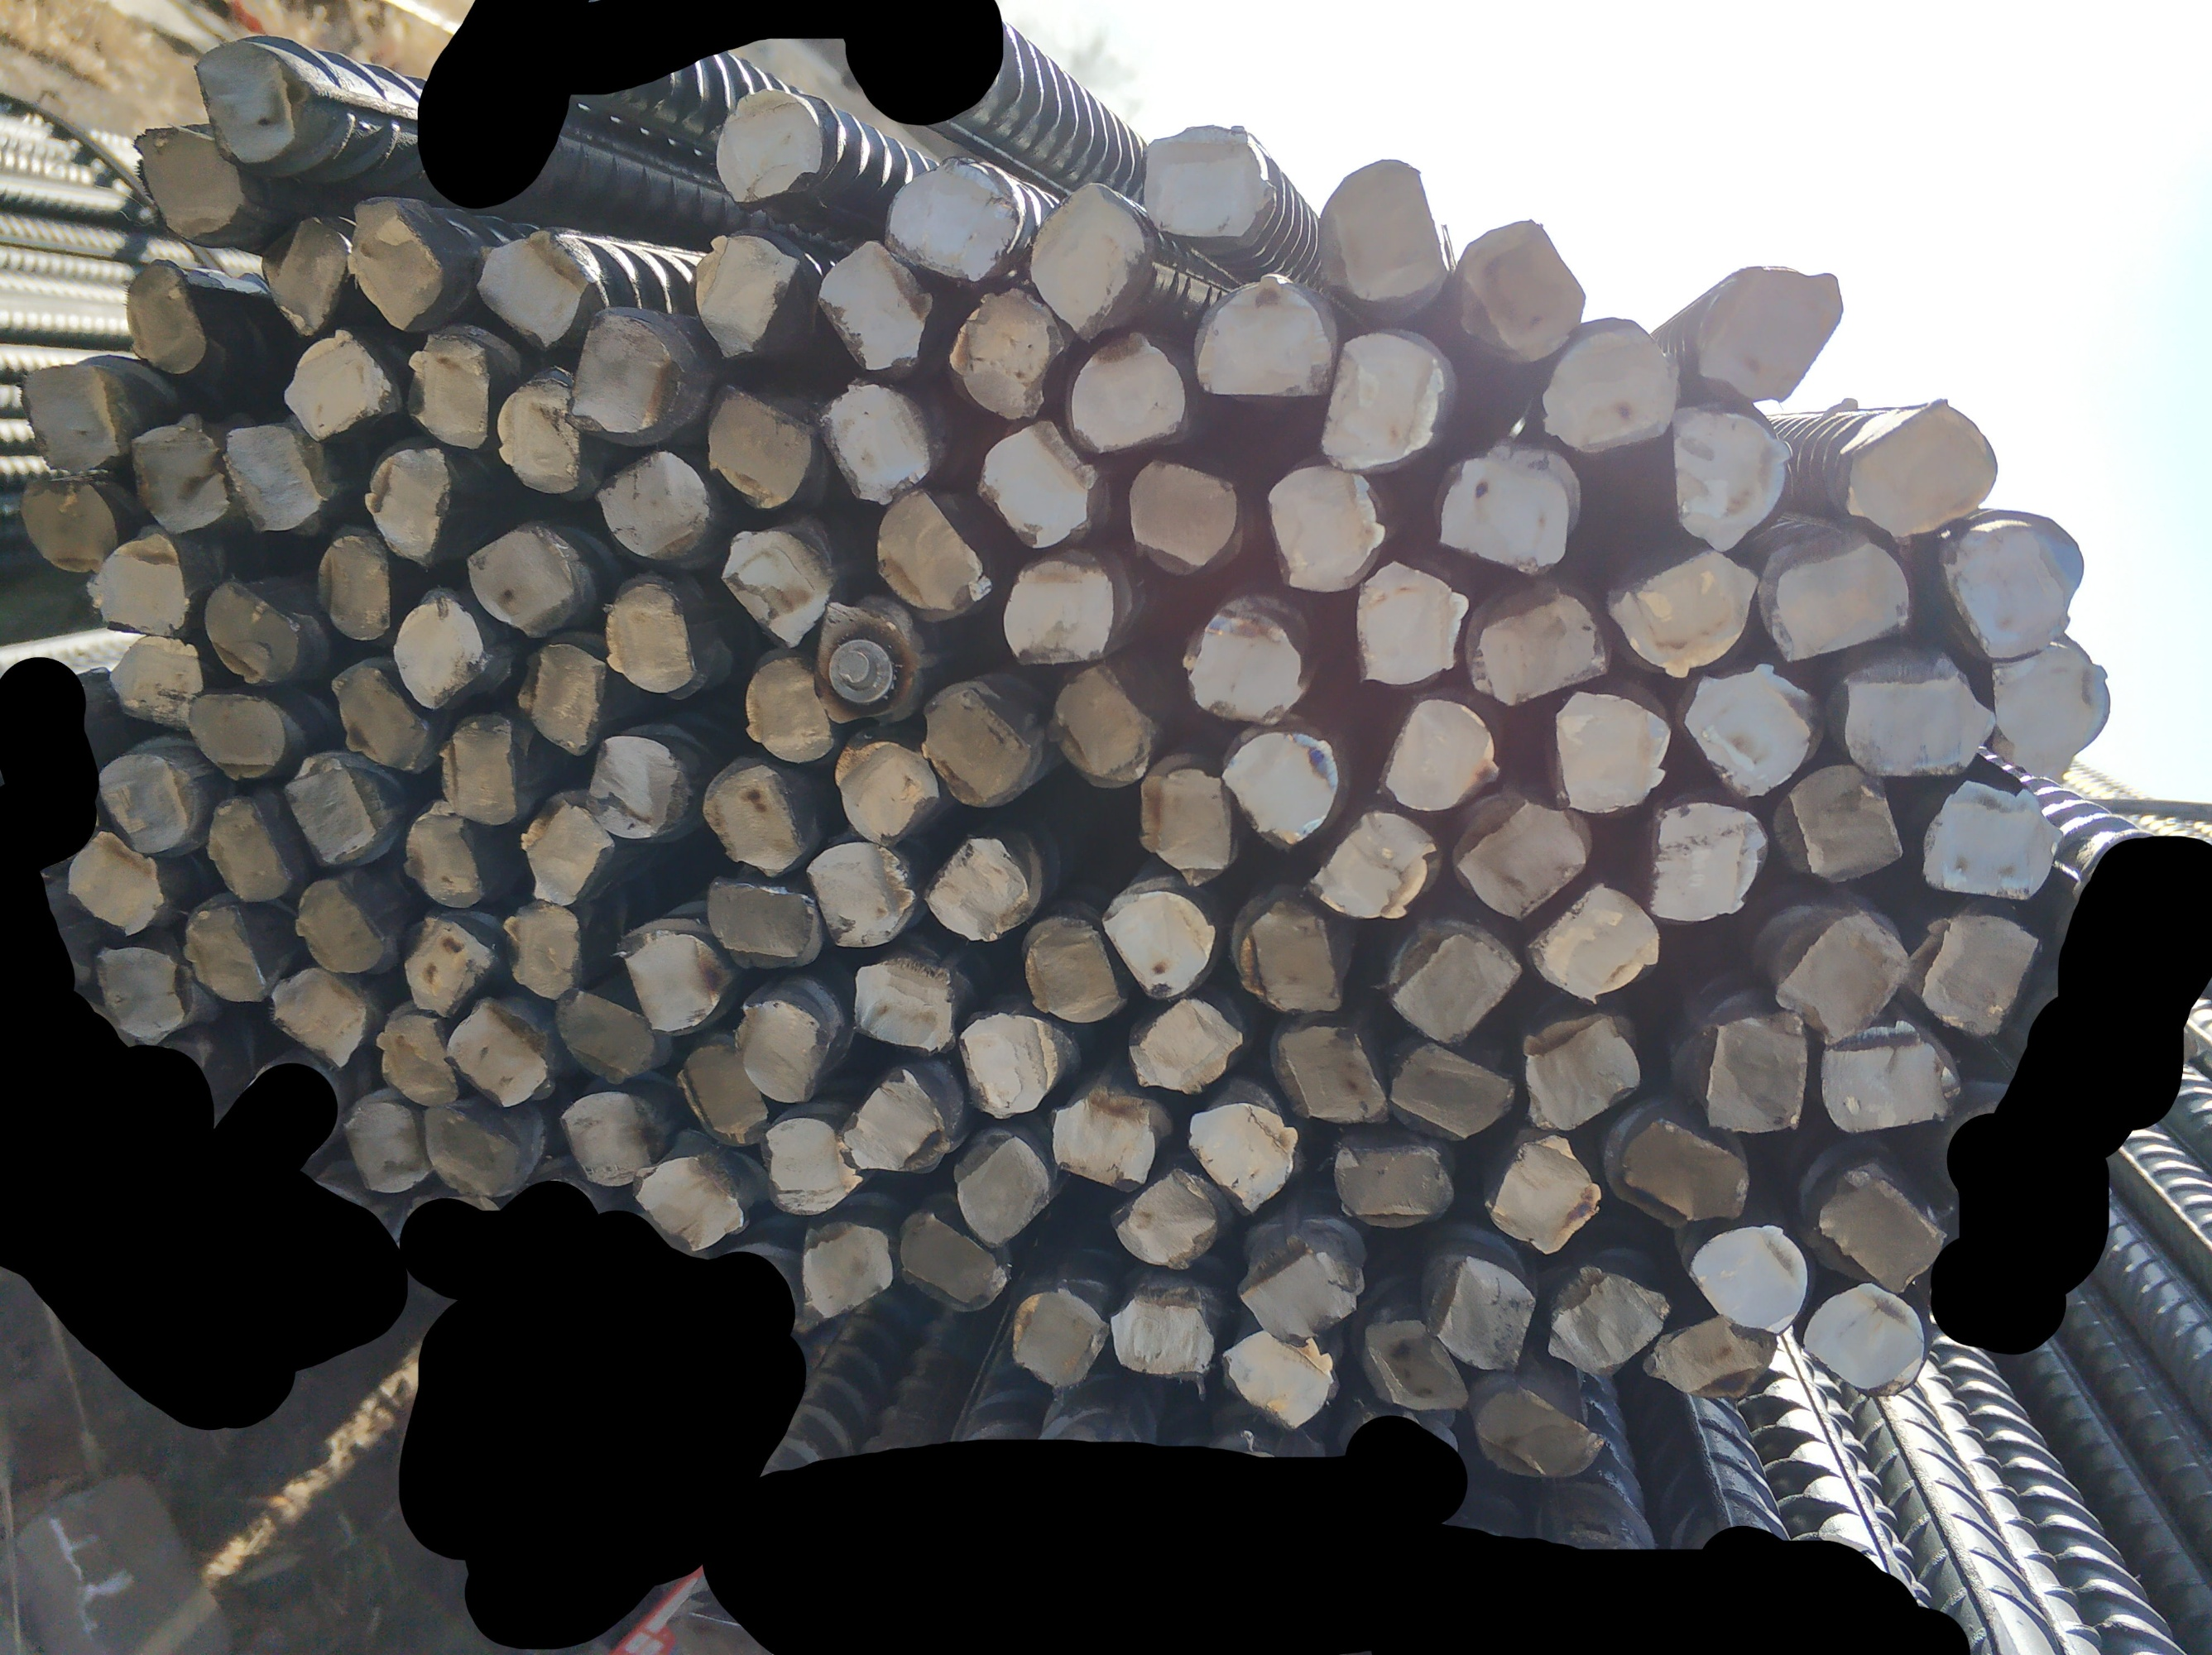rebar: (1840, 391, 2003, 542), (1943, 504, 2094, 661), (1691, 259, 1847, 407), (1835, 641, 1998, 777), (1307, 158, 1447, 311), (1604, 549, 1762, 685), (1453, 212, 1588, 362), (1672, 402, 1802, 555), (1758, 535, 1915, 662), (1029, 177, 1149, 342), (1983, 640, 2116, 788), (1807, 1166, 1957, 1299), (1190, 266, 1334, 402), (1536, 315, 1679, 450), (1684, 664, 1828, 794), (1324, 329, 1449, 476), (1456, 793, 1593, 927), (1918, 779, 2064, 904), (1776, 909, 1915, 1040), (1435, 440, 1574, 568), (1133, 120, 1277, 243), (888, 150, 1020, 283), (977, 415, 1102, 556), (949, 283, 1069, 426), (1062, 330, 1192, 461), (1515, 1010, 1647, 1139), (1818, 1019, 1965, 1133), (191, 33, 313, 170), (817, 238, 935, 379), (1303, 805, 1444, 923), (1176, 598, 1307, 725), (1906, 914, 2038, 1040), (1685, 1008, 1809, 1140), (1553, 683, 1672, 821), (1390, 923, 1522, 1045), (1529, 880, 1663, 1000), (1265, 464, 1388, 593), (1642, 796, 1764, 927), (1347, 562, 1472, 687), (1487, 1132, 1613, 1257), (1543, 1266, 1675, 1384), (1607, 1116, 1750, 1226), (1474, 589, 1609, 704), (1776, 763, 1904, 883), (1216, 727, 1341, 848), (1797, 1281, 1929, 1396), (1687, 1219, 1812, 1337), (568, 309, 683, 438), (874, 487, 987, 617), (342, 195, 447, 336), (917, 676, 1027, 810), (718, 523, 834, 648), (820, 376, 935, 502), (1376, 692, 1498, 810), (704, 381, 813, 511), (1467, 1377, 1606, 1479), (692, 229, 799, 362), (1234, 1236, 1366, 1344), (474, 224, 593, 344), (1096, 883, 1216, 1001), (1425, 1250, 1540, 1373), (1050, 662, 1161, 788), (1229, 897, 1347, 1014), (1128, 454, 1239, 577), (593, 450, 712, 563), (1001, 555, 1121, 668), (949, 1130, 1062, 1250), (419, 1090, 542, 1200), (813, 596, 919, 723), (130, 125, 245, 242), (464, 522, 579, 638), (1268, 1017, 1390, 1127), (956, 1017, 1072, 1130), (1385, 1043, 1517, 1142), (1187, 1099, 1298, 1215), (129, 414, 236, 534), (12, 362, 125, 475), (714, 89, 825, 203), (843, 1060, 952, 1177), (217, 415, 325, 534), (1218, 1326, 1338, 1432), (1135, 765, 1237, 888), (276, 327, 387, 440), (441, 998, 554, 1109), (803, 838, 914, 951), (1647, 1313, 1781, 1406), (1348, 1314, 1470, 1417), (626, 1151, 749, 1252), (699, 760, 803, 878), (257, 210, 351, 341), (1329, 1135, 1458, 1229), (325, 659, 429, 774), (1046, 1087, 1162, 1189), (900, 1206, 1010, 1314), (617, 932, 732, 1034), (495, 367, 582, 501), (832, 737, 940, 845), (584, 732, 690, 841), (1006, 1281, 1112, 1391), (1020, 914, 1124, 1026), (361, 440, 454, 565), (283, 754, 382, 869), (83, 534, 191, 638), (1114, 1165, 1218, 1273), (926, 834, 1029, 944), (99, 749, 200, 861), (393, 593, 488, 709), (603, 577, 699, 694), (672, 1036, 772, 1147), (1129, 996, 1242, 1093), (89, 939, 189, 1047), (554, 986, 662, 1087), (203, 574, 299, 687), (401, 329, 490, 450), (514, 640, 605, 758), (120, 259, 209, 379), (740, 652, 834, 763), (262, 965, 367, 1064), (732, 993, 824, 1104), (521, 794, 612, 907), (763, 1116, 865, 1215), (205, 793, 294, 906), (705, 880, 818, 968), (16, 473, 116, 572), (558, 1088, 657, 1189), (855, 953, 956, 1052), (68, 831, 165, 934), (403, 913, 497, 1017), (438, 713, 521, 829), (294, 874, 389, 975), (342, 1092, 434, 1194), (1110, 1292, 1216, 1380), (401, 801, 487, 911), (799, 1222, 895, 1319), (103, 636, 205, 727), (181, 895, 266, 1003), (188, 690, 288, 781), (374, 1007, 460, 1107), (313, 532, 393, 641), (500, 897, 582, 1000)
